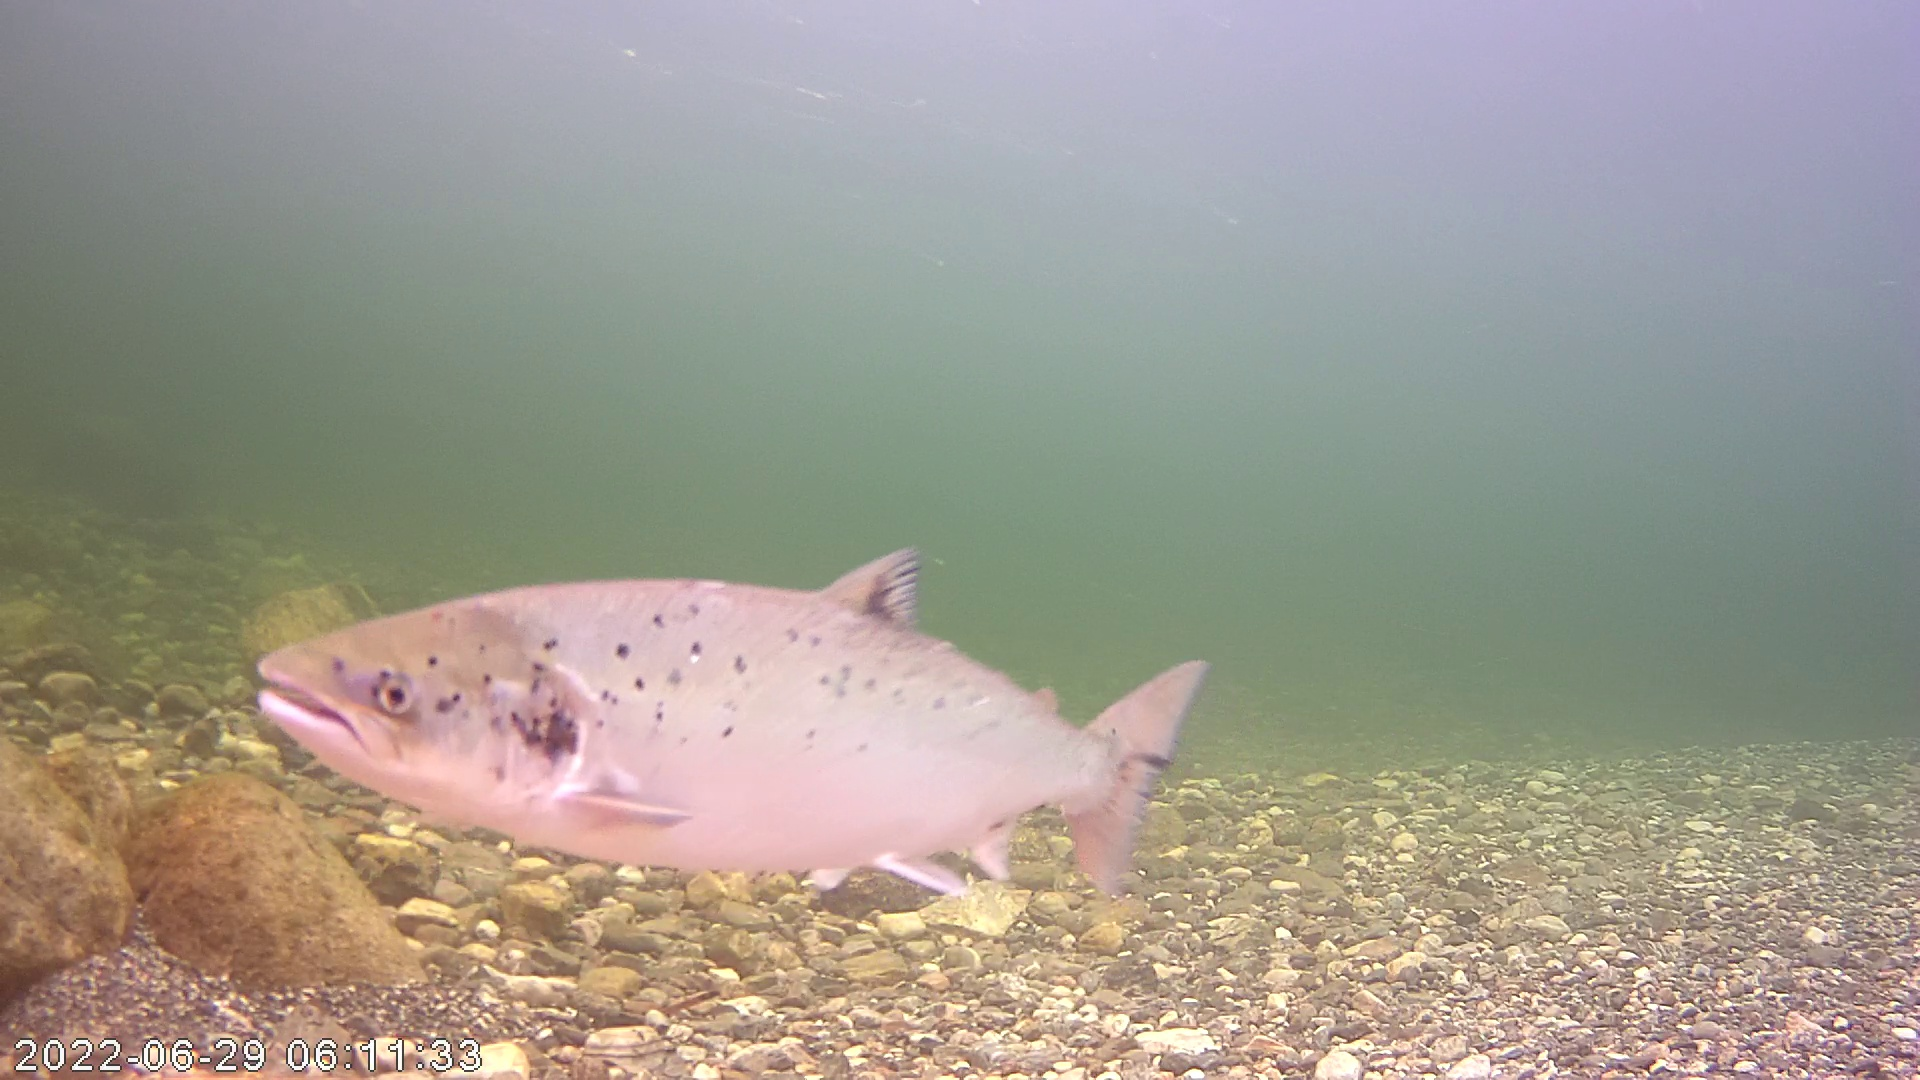salmon: (255, 433, 1211, 909)
